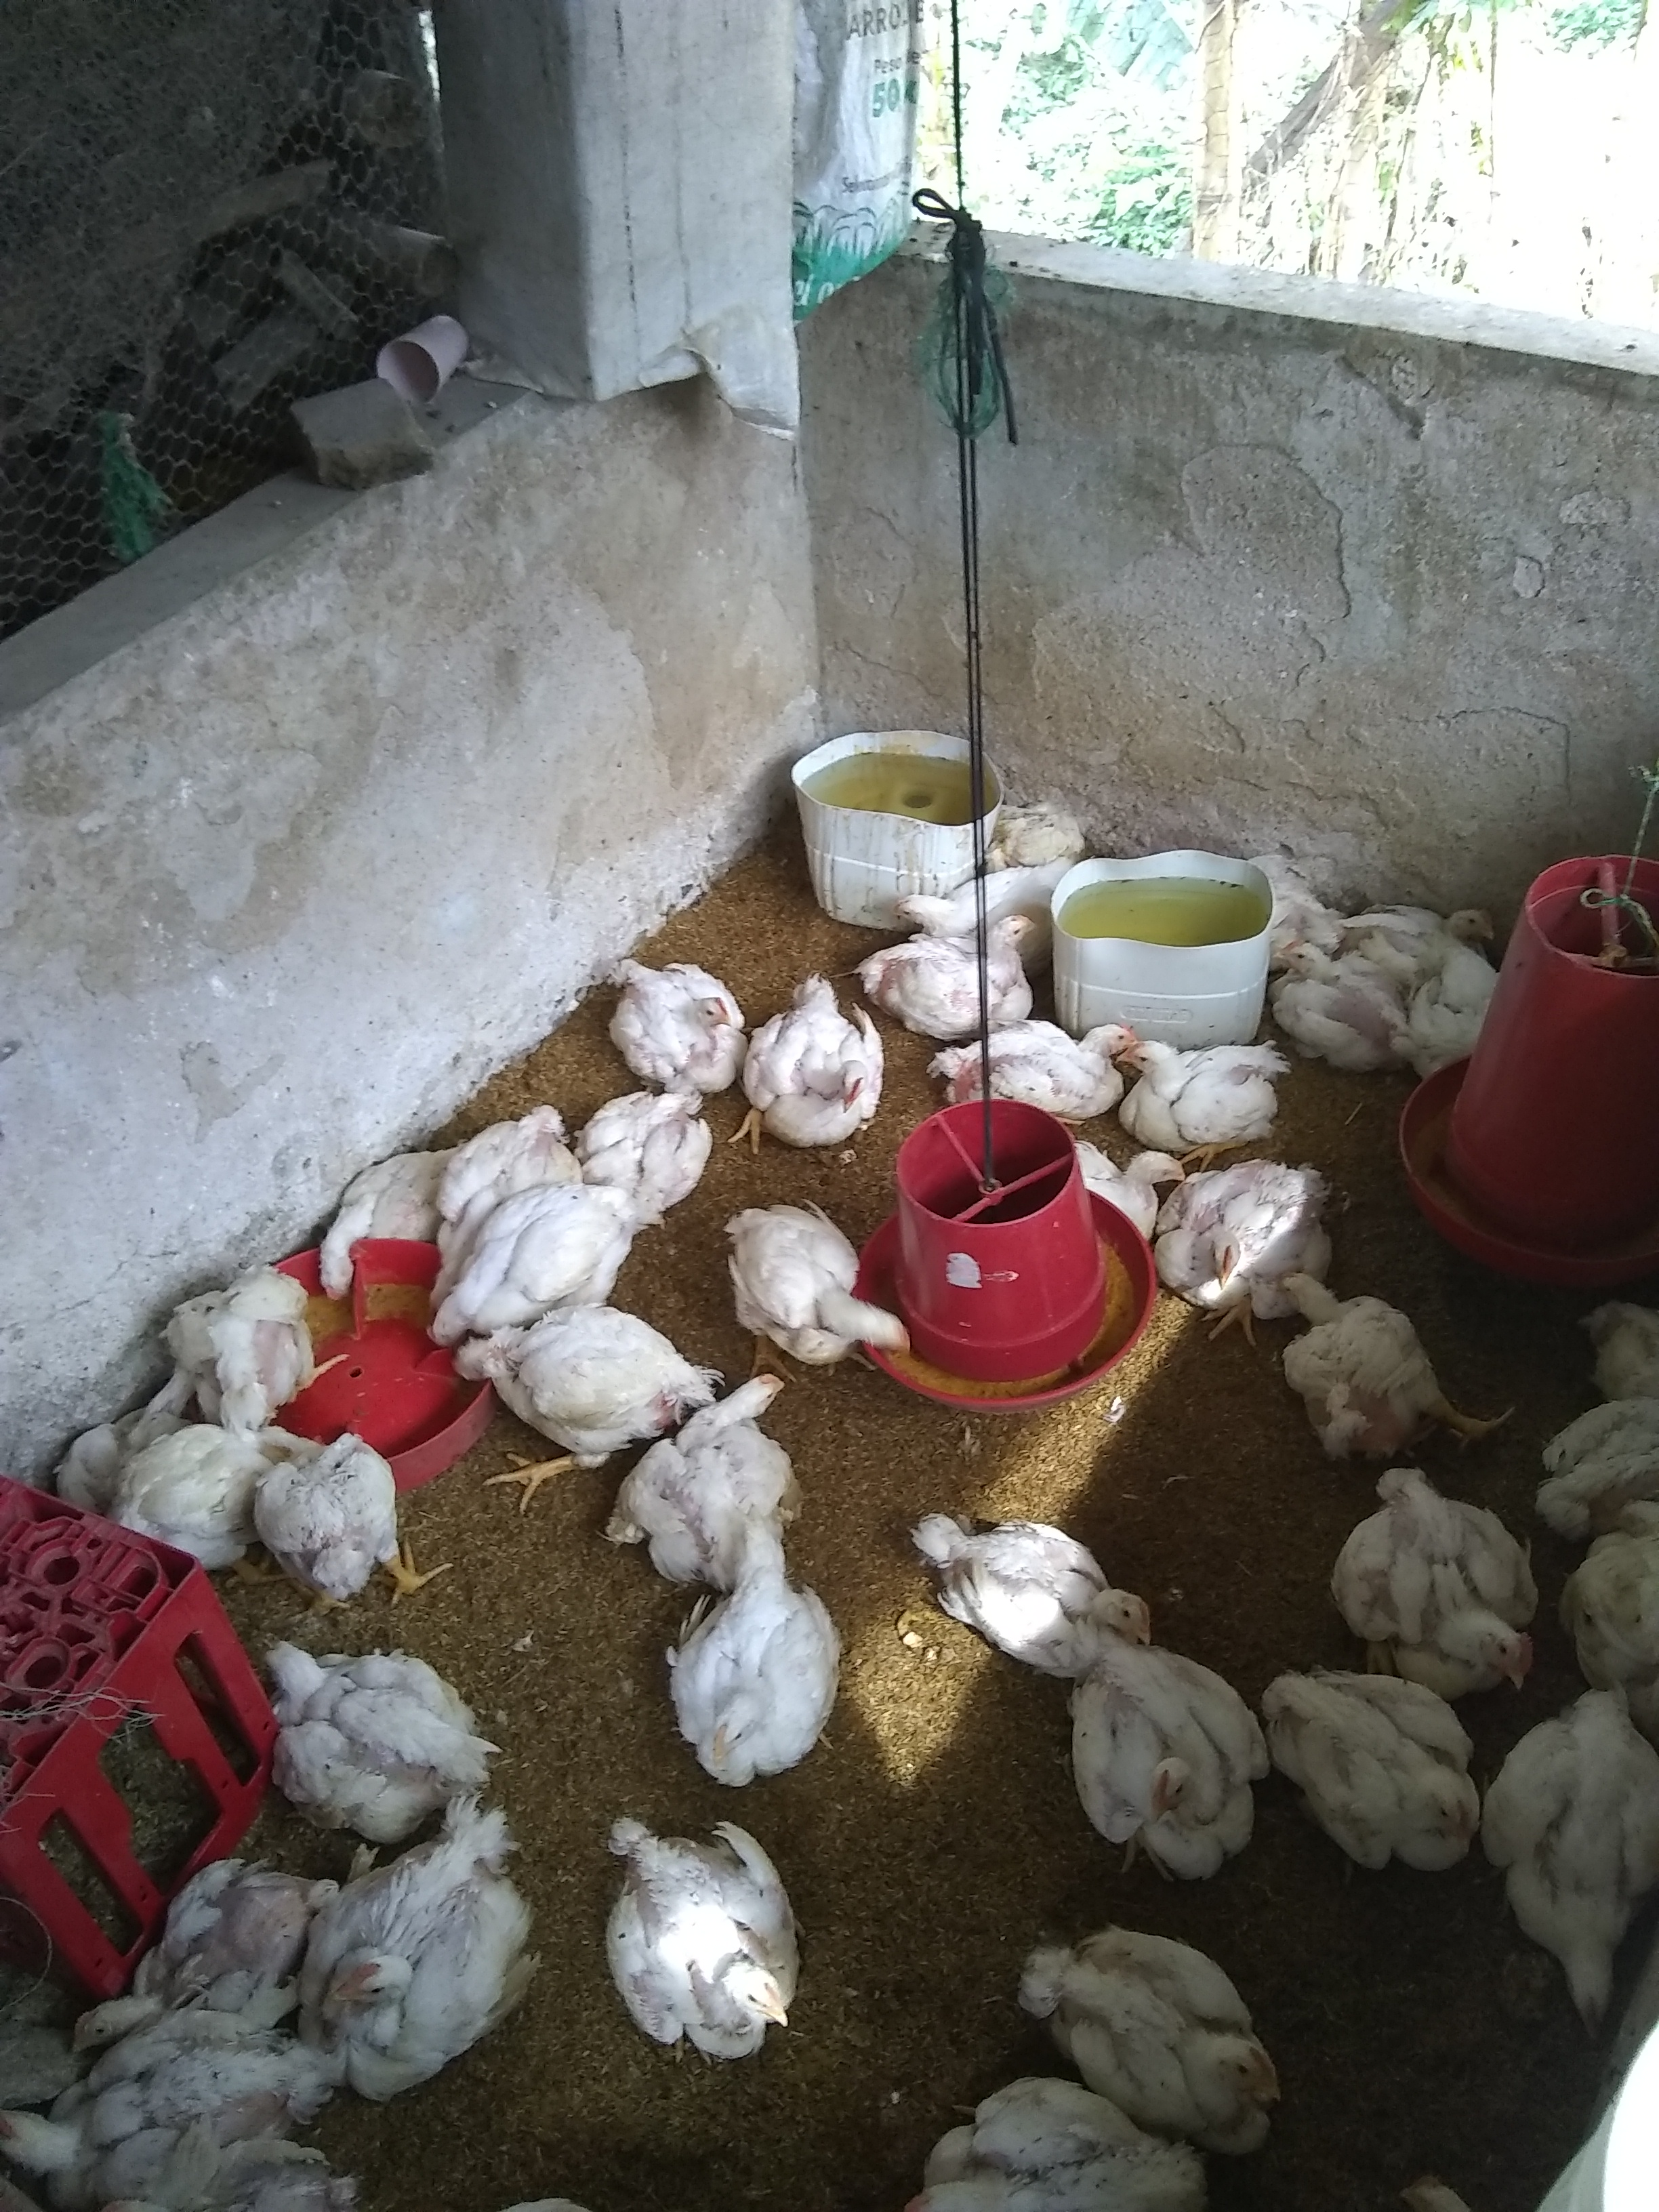Pollos: (1499, 1705, 1659, 2040), (305, 1836, 514, 2085), (61, 1864, 305, 2055), (1051, 1935, 1284, 2128), (256, 1634, 495, 1811), (620, 1827, 802, 2054), (1354, 1470, 1528, 1686), (678, 1564, 831, 1778), (432, 1174, 631, 1338), (918, 1522, 1155, 1656), (1274, 1266, 1452, 1442), (1305, 1674, 1480, 1851), (1101, 1663, 1246, 1876), (640, 1371, 791, 1571), (720, 1197, 915, 1348), (270, 1430, 415, 1602), (105, 1381, 289, 1515), (460, 1317, 674, 1430), (162, 1271, 324, 1407), (573, 1083, 735, 1198), (948, 1014, 1140, 1109), (1168, 1183, 1316, 1301), (610, 963, 749, 1080), (756, 1014, 882, 1139), (1119, 1045, 1277, 1141), (317, 1150, 411, 1308), (1542, 1399, 1659, 1515), (1274, 937, 1387, 1054), (1105, 1143, 1192, 1214), (1387, 900, 1497, 953), (981, 911, 1026, 1012), (890, 880, 962, 941)
